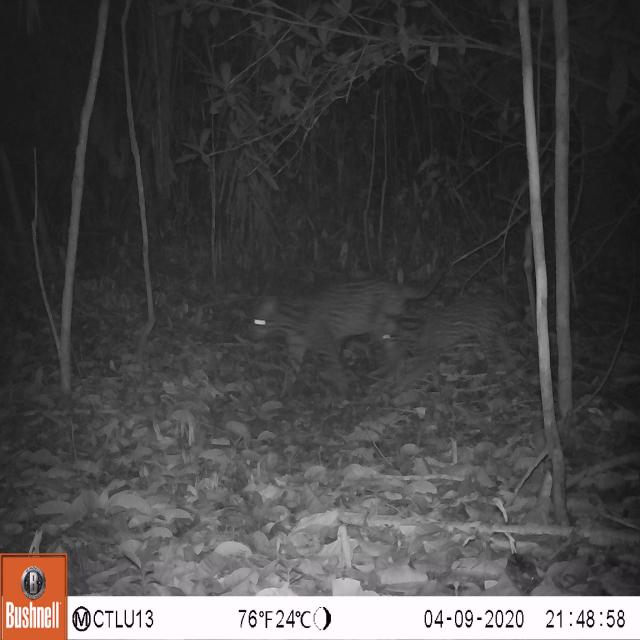Ocelote: (243, 267, 406, 404), (372, 286, 526, 387)
